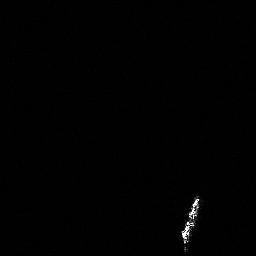ship: (176, 193, 204, 253)
